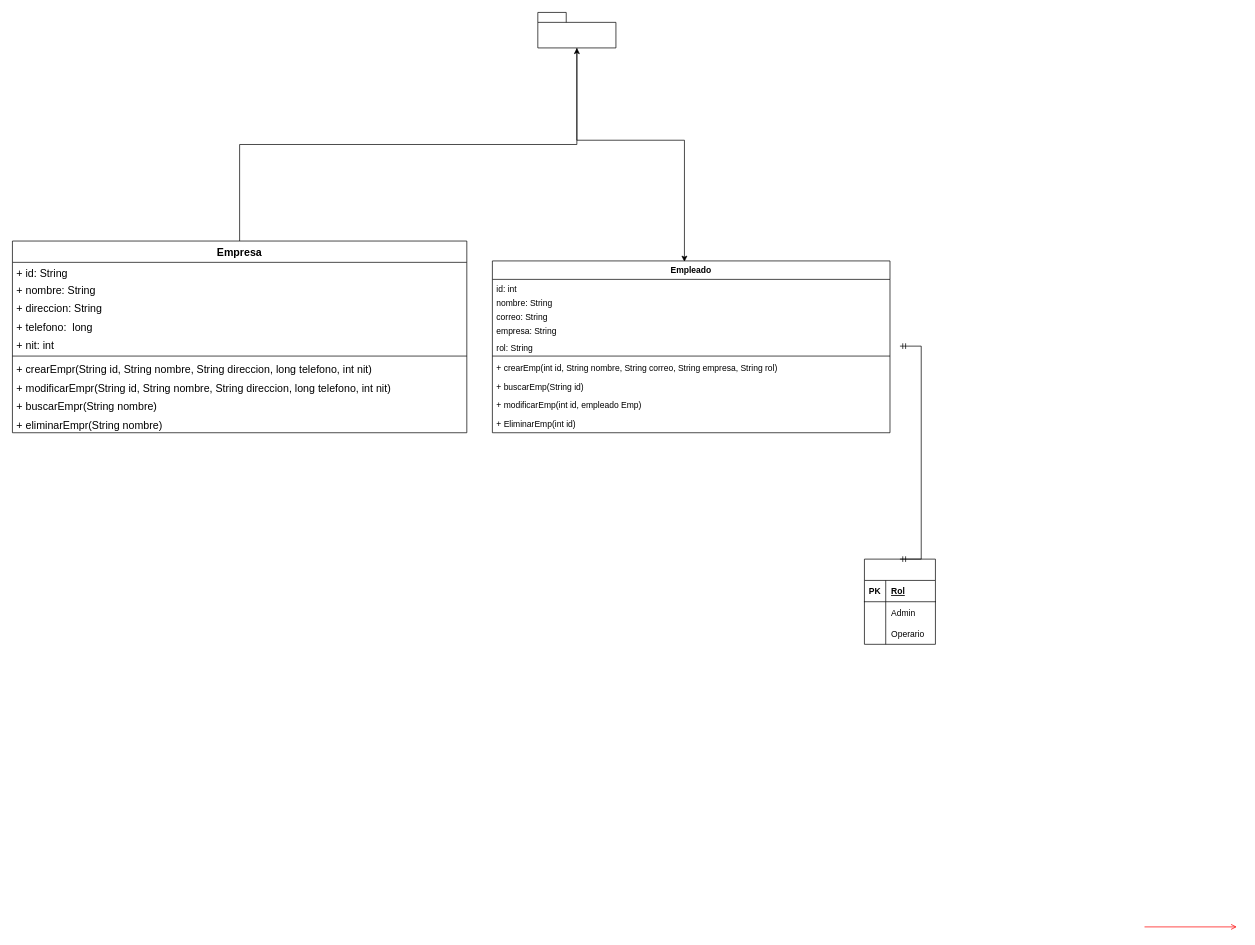
This 1255x945 diagram has some shape labels left out. The box of each missing label's shape, as (x1, y1, x2, y2) in pixels:
Modelo: (537, 12, 616, 48)
Roles: (864, 558, 935, 644)
